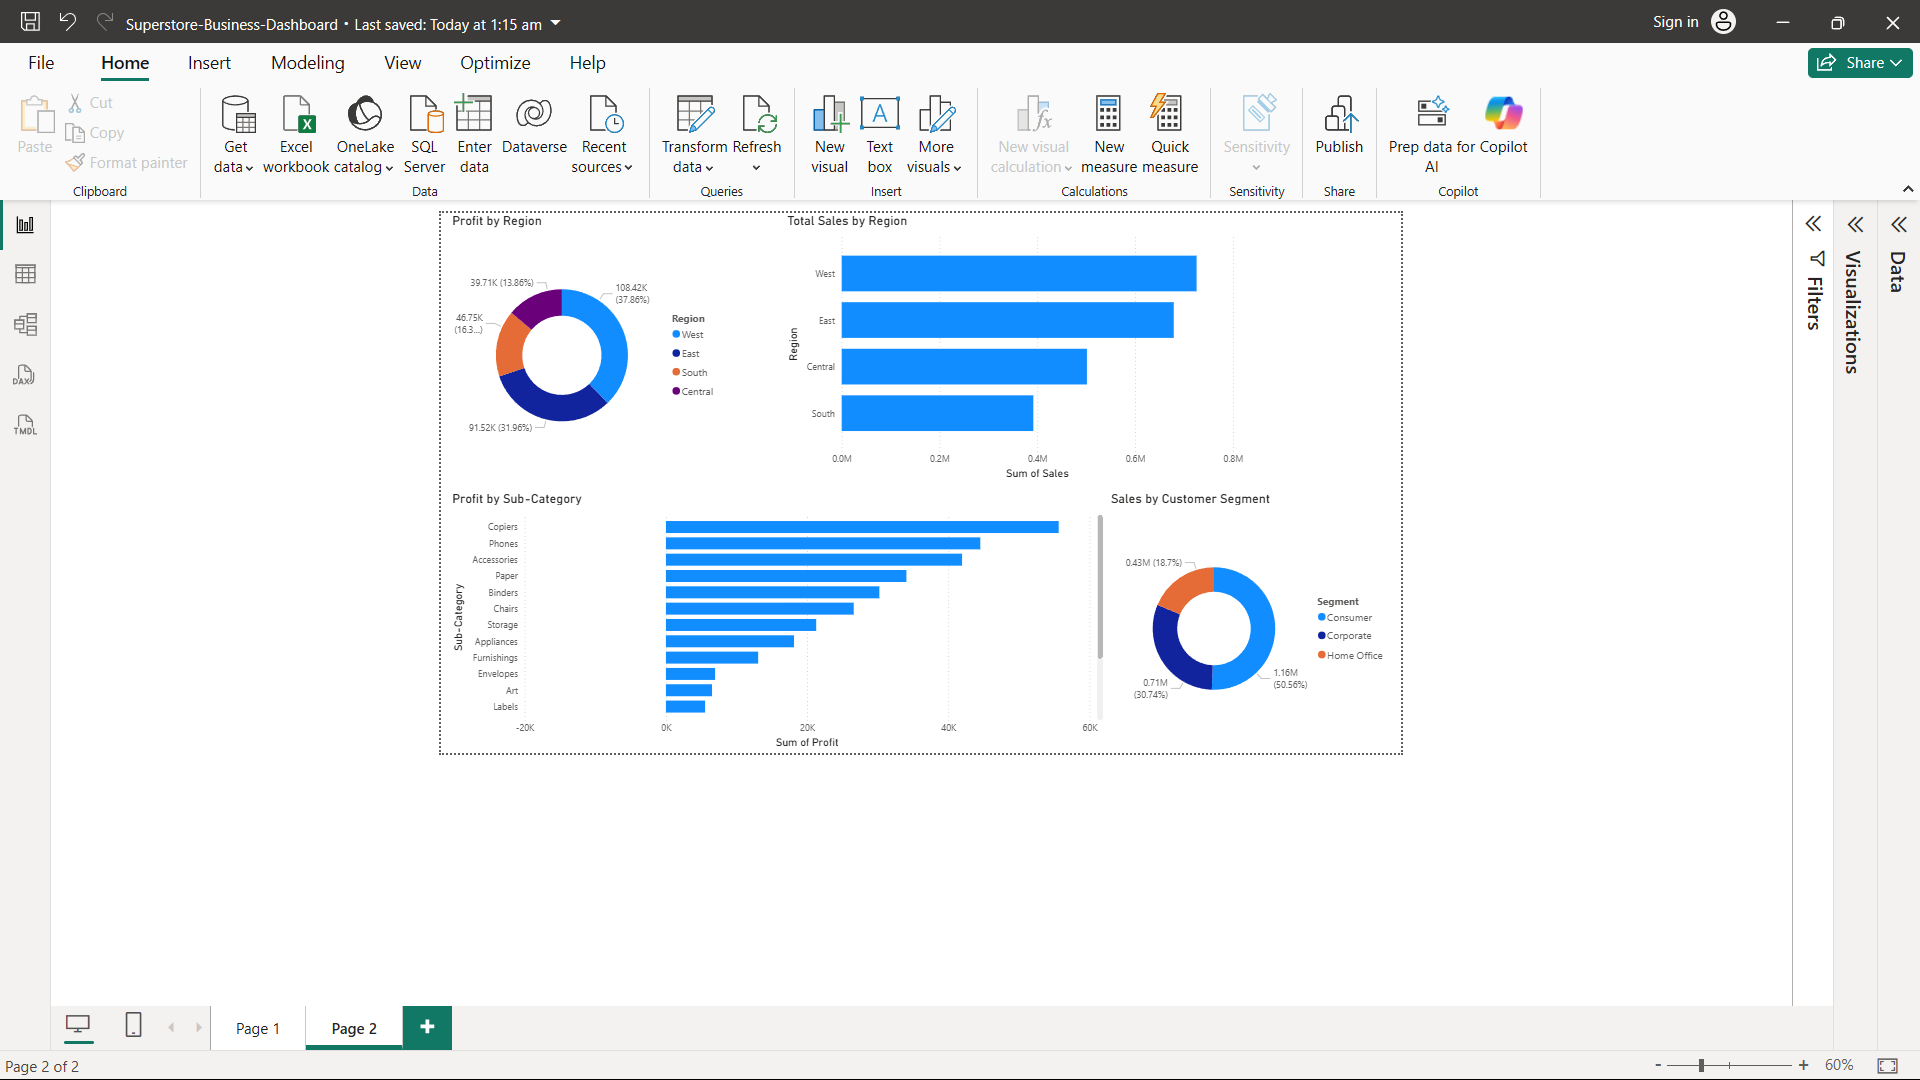

This screenshot's page, from the dashboard's own definition file:
{"tool":"powerbi","page":{"name":"Page 2","canvas":[1280,720],"ordinal":1},"visuals":[{"type":"donutChart","title":"Profit by Region","fields":{"Category":["Sample - Superstore.Region"],"Y":["Sum(Sample - Superstore.Profit)"]},"box":[10,0,367.8,360.6],"z":0},{"type":"clusteredBarChart","title":"Profit by Sub-Category","fields":{"Category":["Sample - Superstore.Sub-Category"],"Y":["Sum(Sample - Superstore.Profit)"]},"box":[10,370.6,878,349.2],"z":1000},{"type":"clusteredBarChart","title":"Total Sales by Region","fields":{"Category":["Sample - Superstore.Region"],"Y":["Sum(Sample - Superstore.Sales)"]},"box":[456.1,0,618.6,360.6],"z":2000},{"type":"donutChart","title":"Sales by Customer Segment","fields":{"Category":["Sample - Superstore.Segment"],"Y":["Sum(Sample - Superstore.Sales)"]},"box":[888,370.6,382,349.2],"z":3000}]}

Visuals, with their boxes on the page's 1280x720 design canvas (x1, y1, x2, y2). These are canvas units, not pixel positions in the 1920x1080 screenshot, which may show the page scaled, cropped or inside an application window:
"Profit by Region" donutChart: Rect(10, 0, 378, 361)
"Profit by Sub-Category" clusteredBarChart: Rect(10, 371, 888, 720)
"Total Sales by Region" clusteredBarChart: Rect(456, 0, 1075, 361)
"Sales by Customer Segment" donutChart: Rect(888, 371, 1270, 720)
